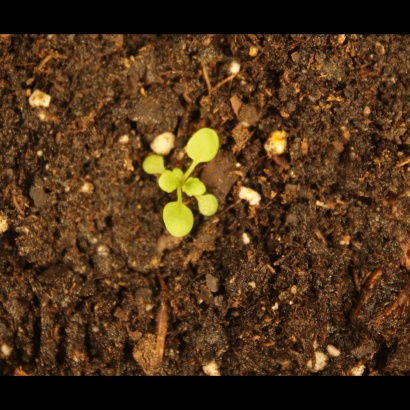leaf: (183, 123, 223, 167), (161, 199, 197, 240), (195, 193, 223, 222), (184, 176, 207, 199), (142, 153, 165, 176), (157, 171, 180, 194)
